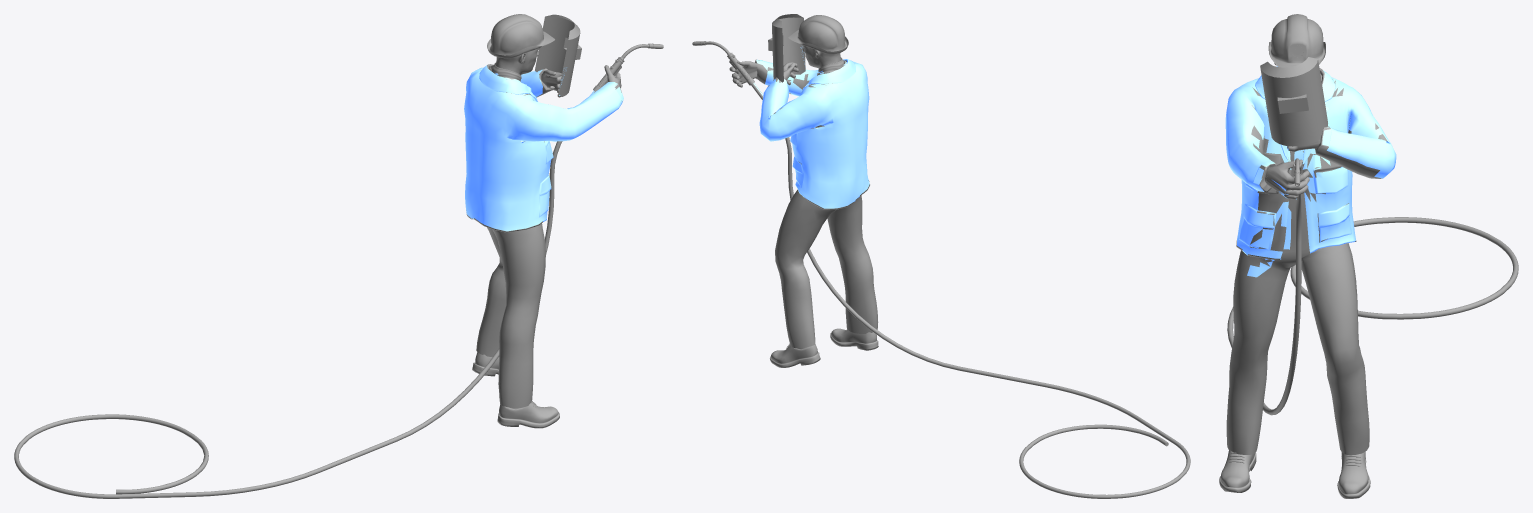
The model's file is Mago.glb.
3 renders of one model, left to right at view 1: azimuth 30°, elevation 25°; view 2: azimuth 150°, elevation 25°; view 3: azimuth 270°, elevation 25°, orthographic. The views are drawn at different scales.
Parts seen in each view (by area): view 1: FbxMesh_d9b1c859-5869-4992-807f-490e9fa5cca6_0; view 2: FbxMesh_d9b1c859-5869-4992-807f-490e9fa5cca6_0; view 3: FbxMesh_d9b1c859-5869-4992-807f-490e9fa5cca6_0.
Part boxes in pixels (x1,y1,x2,y2): FbxMesh_d9b1c859-5869-4992-807f-490e9fa5cca6_0: (14, 14, 663, 498); FbxMesh_d9b1c859-5869-4992-807f-490e9fa5cca6_0: (692, 14, 1190, 498); FbxMesh_d9b1c859-5869-4992-807f-490e9fa5cca6_0: (1219, 14, 1518, 498).
Size of the model in its own units: 0.8569 by 0.5348 by 0.3096.
